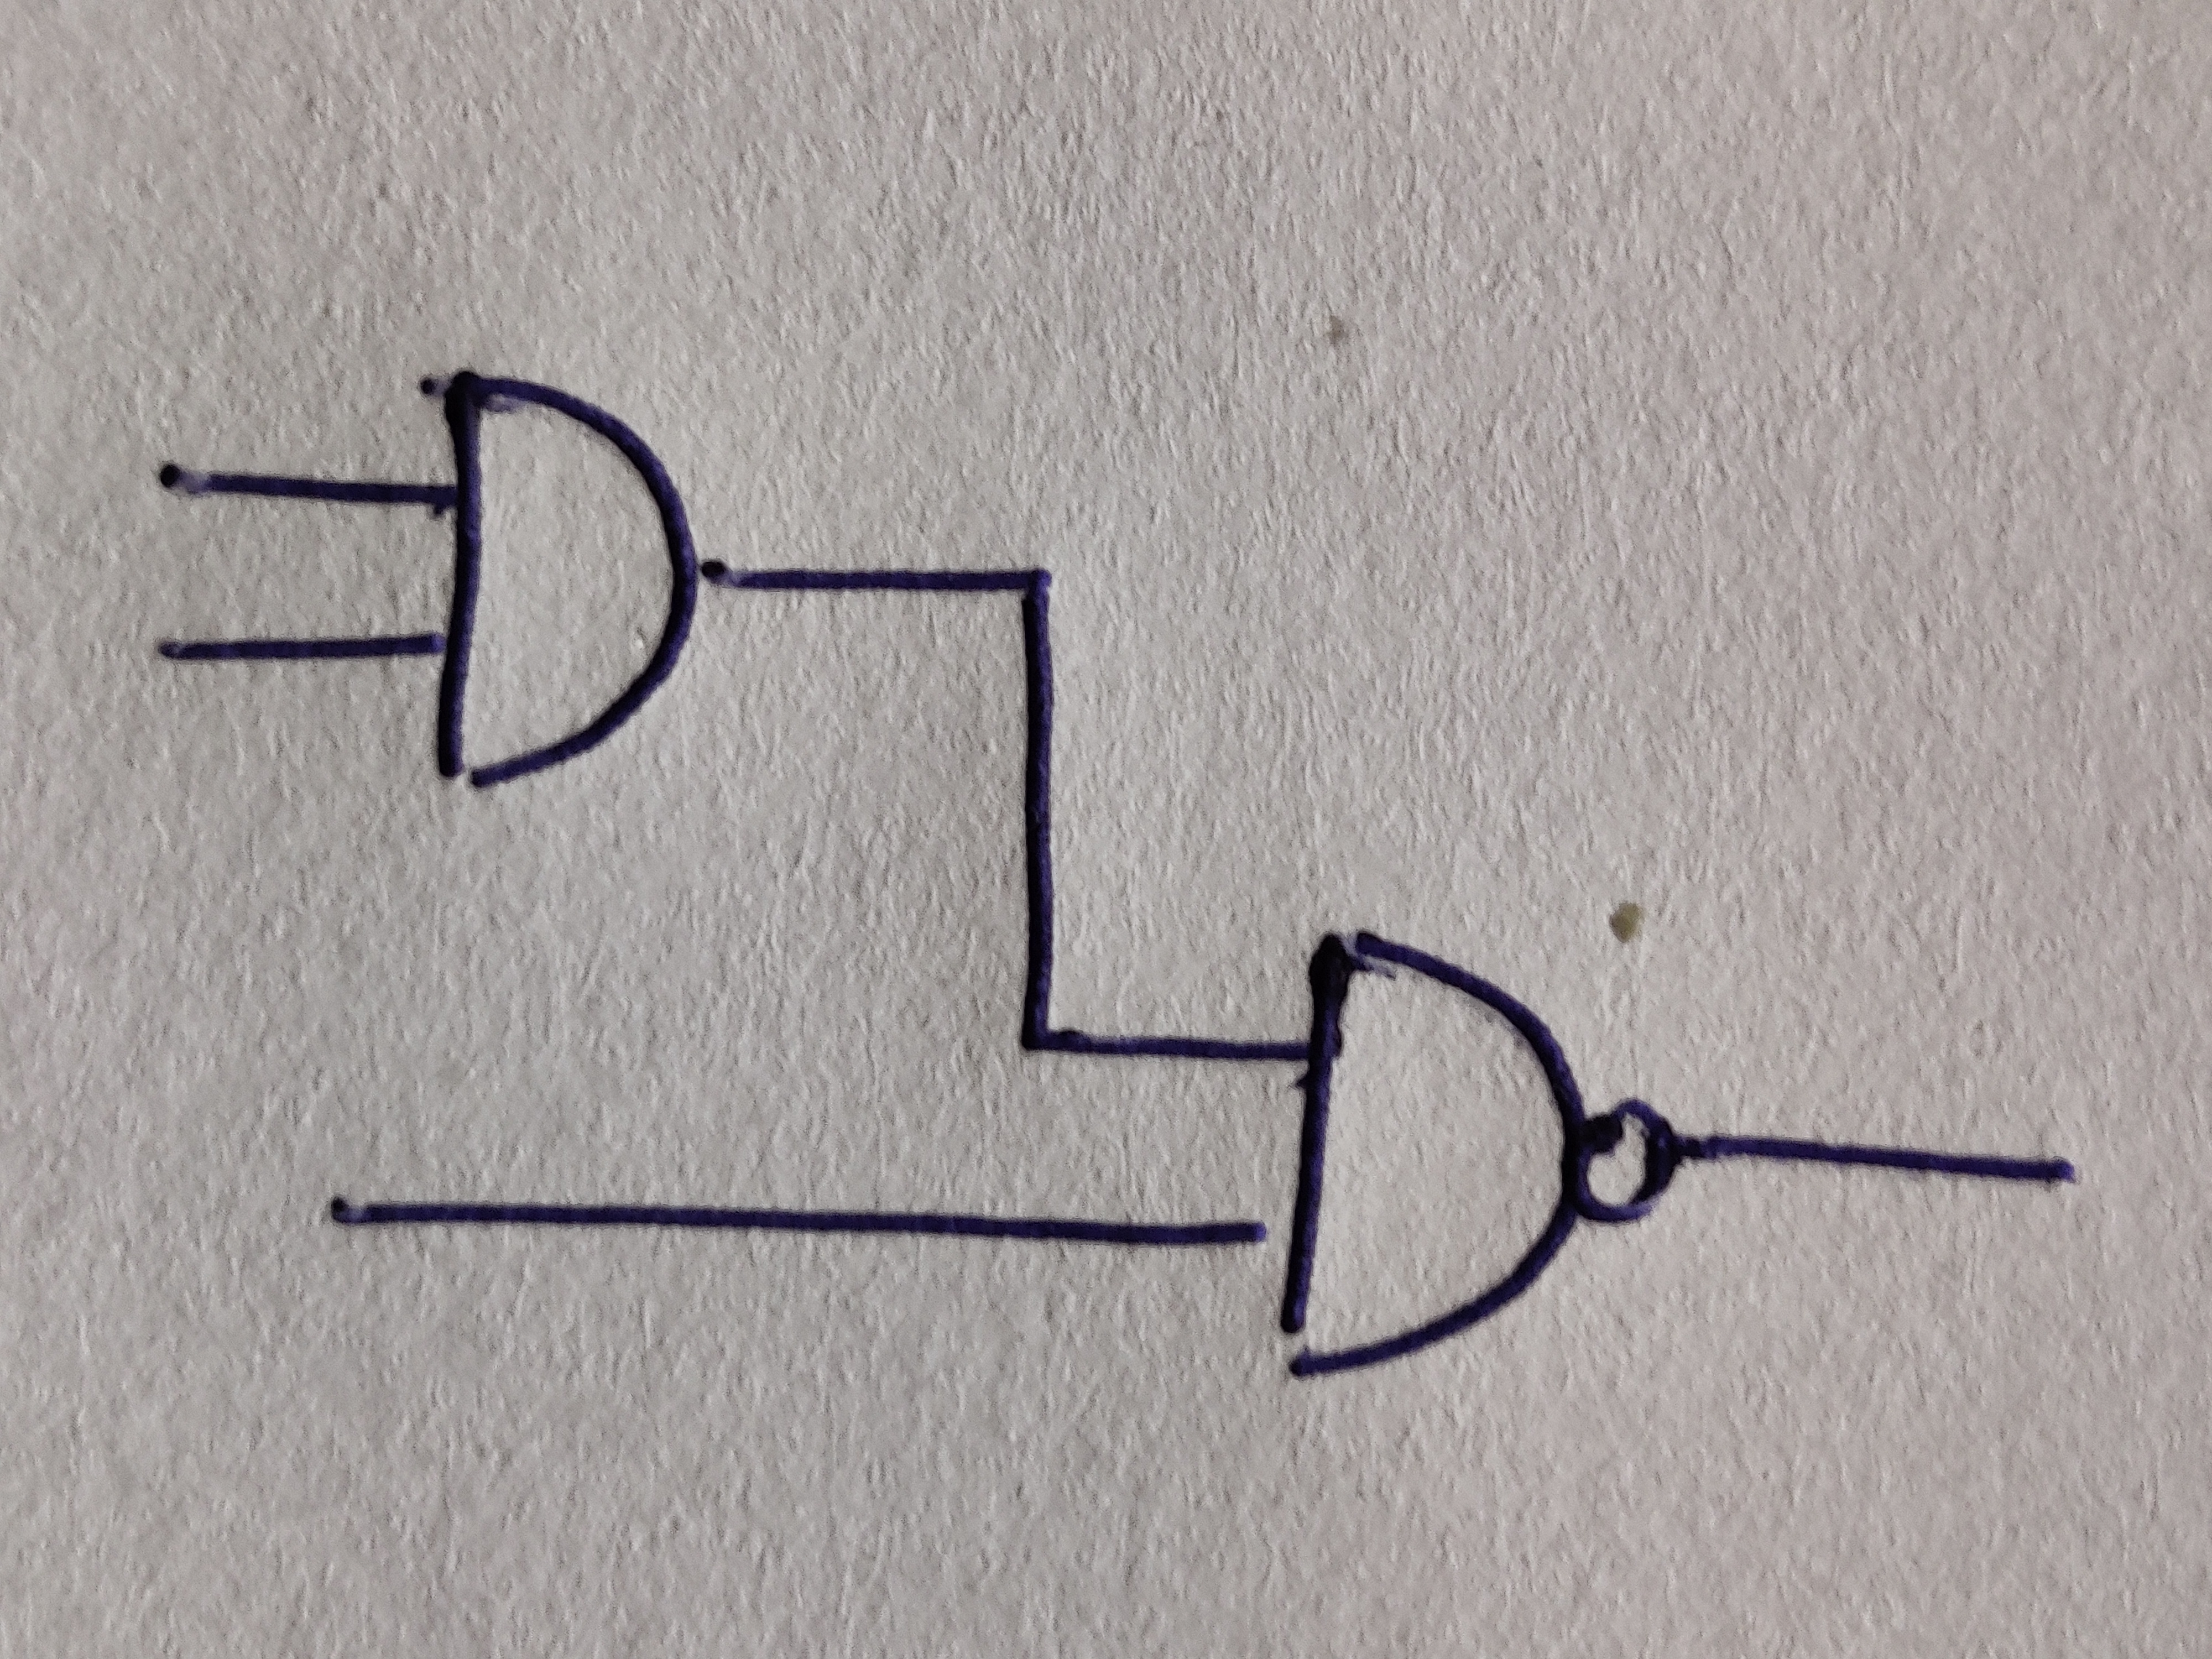and: (1278, 932, 1585, 1380), (437, 371, 697, 791)
not: (1571, 1100, 1676, 1223)
